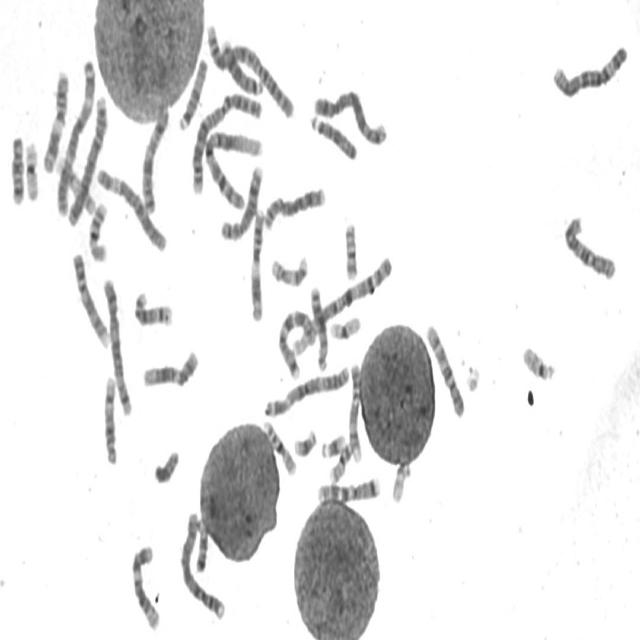A1: (288, 249, 395, 355), (200, 124, 265, 212)
A2: (188, 86, 265, 200), (217, 36, 296, 120)
A3: (53, 55, 97, 220), (262, 358, 352, 418)
B4: (64, 90, 109, 228), (176, 506, 226, 622)
B5: (310, 84, 389, 148), (100, 271, 134, 419)
C10: (422, 316, 467, 420), (561, 208, 618, 282)
C11: (40, 64, 70, 175), (247, 202, 266, 324)
C12: (129, 538, 161, 632), (140, 344, 200, 390)
C6: (94, 160, 169, 254), (549, 38, 630, 100)
C7: (275, 302, 316, 380), (314, 470, 381, 506)
C8: (217, 158, 265, 243), (261, 180, 327, 232)
C9: (69, 247, 110, 350), (345, 356, 364, 465)
D13: (218, 34, 265, 97), (308, 280, 330, 374)
D14: (130, 285, 174, 329), (100, 371, 119, 467)
D15: (175, 52, 209, 133), (307, 109, 358, 162)
E16: (260, 413, 298, 478), (86, 195, 109, 264)
E17: (53, 151, 97, 216), (268, 249, 310, 289)
E18: (7, 128, 26, 206), (204, 22, 225, 71)
F19: (22, 135, 40, 202), (327, 309, 362, 342)
F20: (326, 436, 355, 484), (341, 216, 360, 283)
G21: (291, 422, 318, 458), (318, 427, 346, 461)
G22: (520, 340, 557, 382), (389, 456, 412, 505)
X: (138, 100, 170, 215)
Y: (151, 444, 181, 486)
